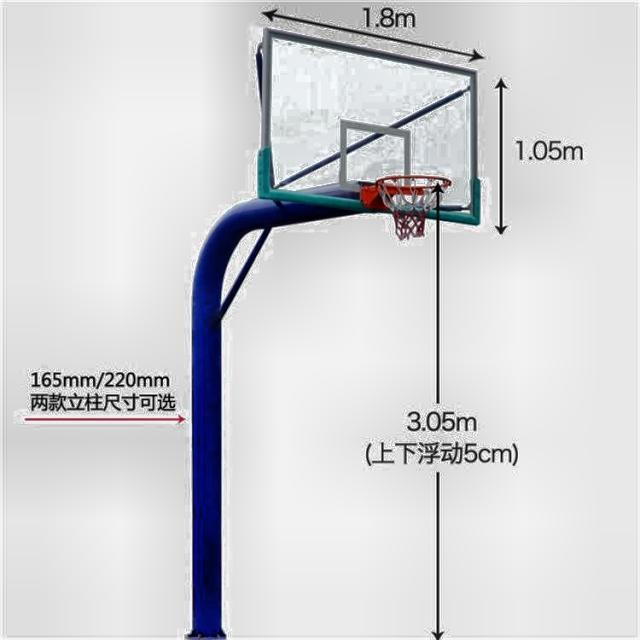rim: (378, 175, 449, 241)
